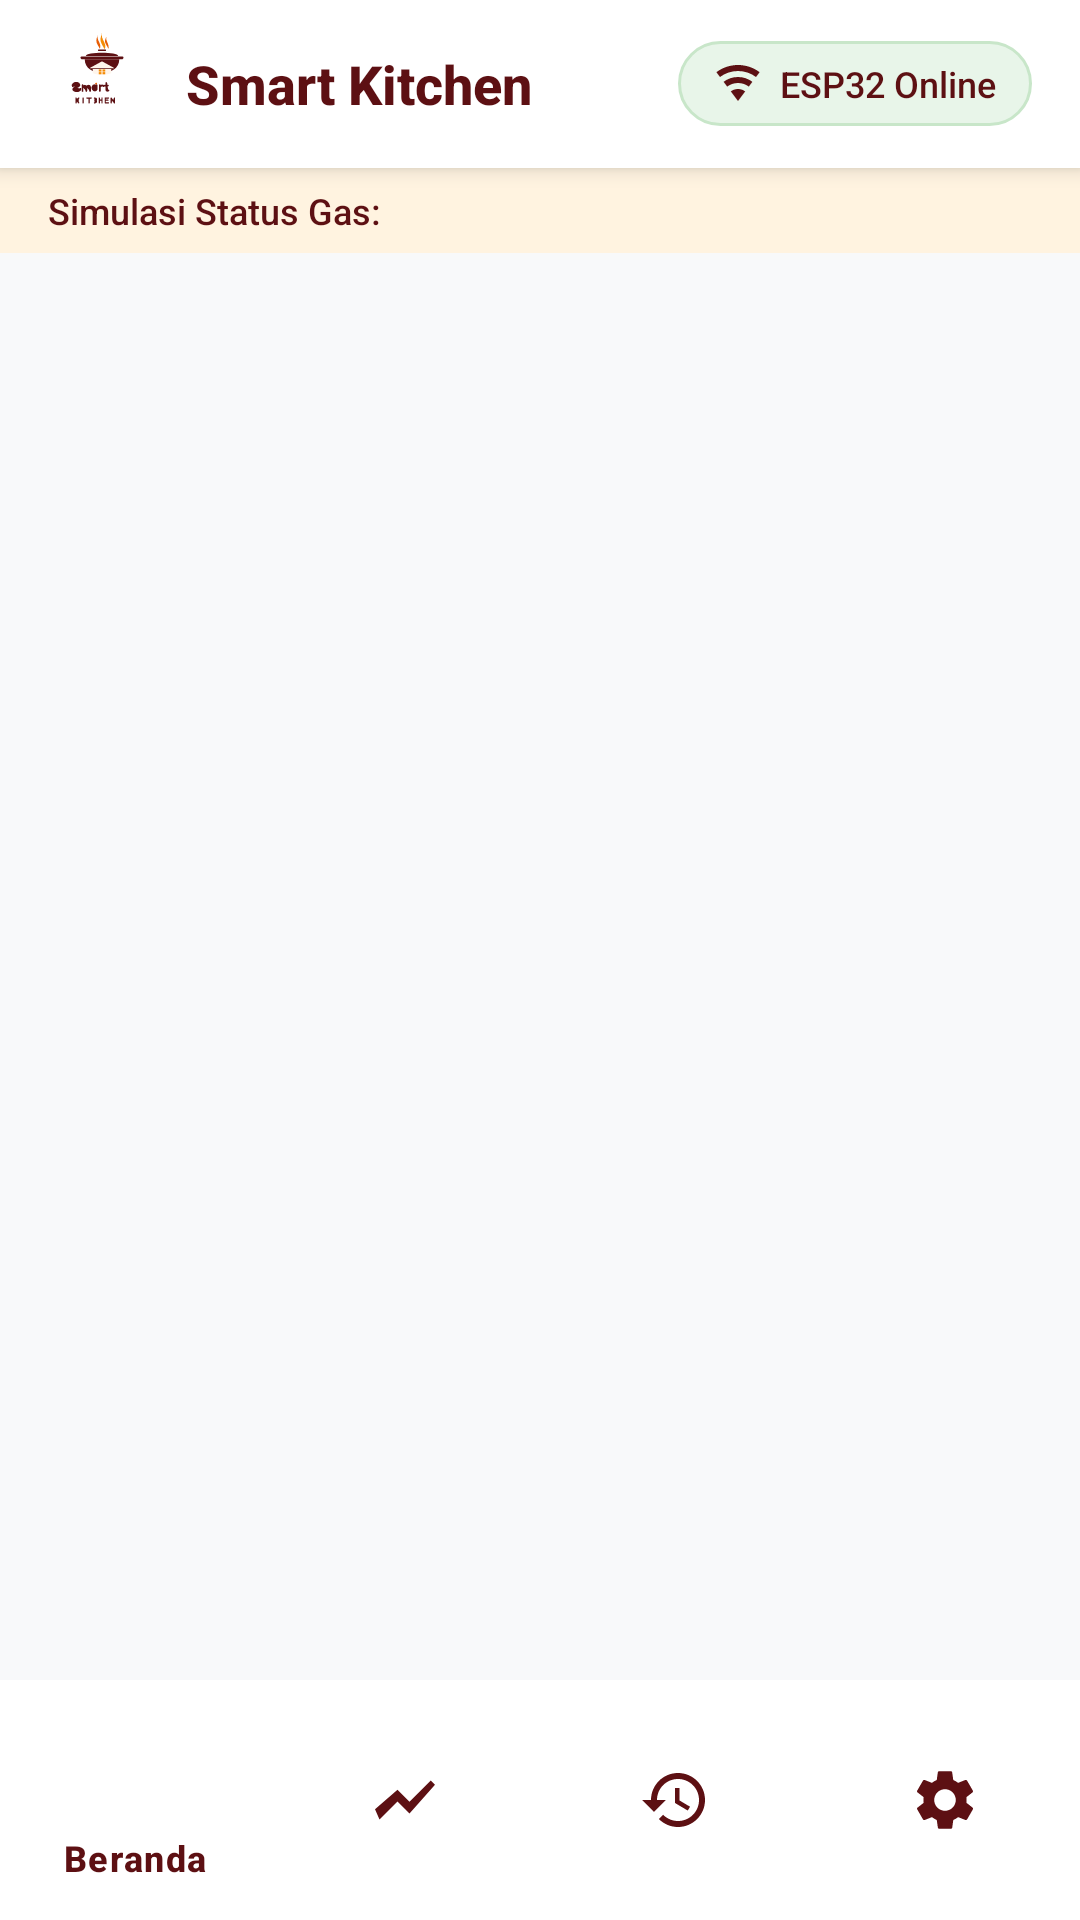

Icon click points for this 1080x1920 phone screenshot, format point (x, y):
wifi online: point (738, 83)
